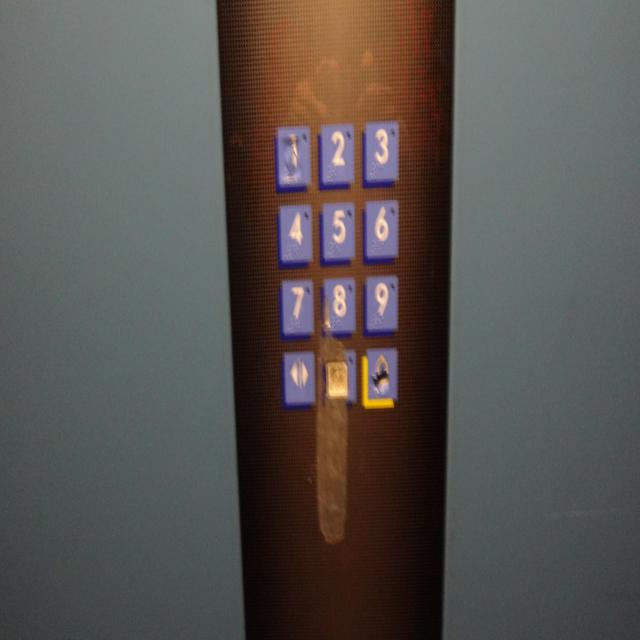1: (276, 125, 311, 189)
2: (320, 124, 356, 184)
3: (366, 122, 399, 180)
4: (278, 203, 312, 264)
5: (321, 202, 356, 263)
6: (365, 198, 400, 258)
7: (281, 278, 314, 336)
8: (323, 278, 356, 335)
9: (364, 273, 398, 334)
alarm: (365, 344, 399, 406)
empty: (324, 359, 350, 402)
open: (282, 348, 316, 405)
